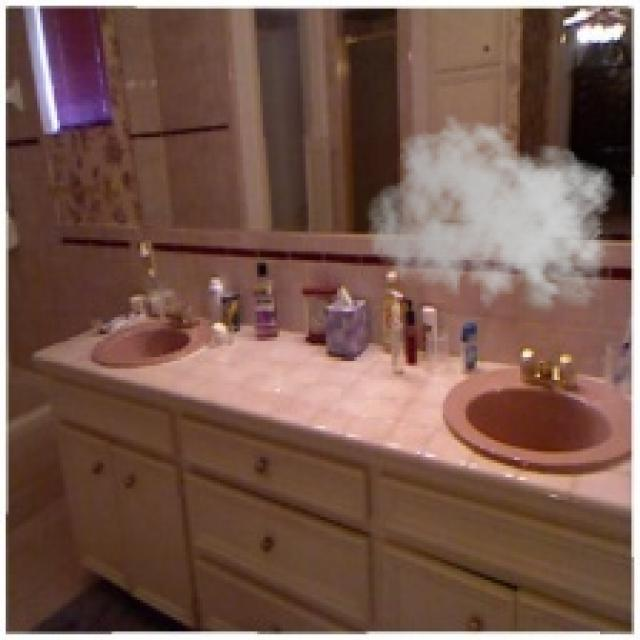smoke: (366, 114, 623, 323)
